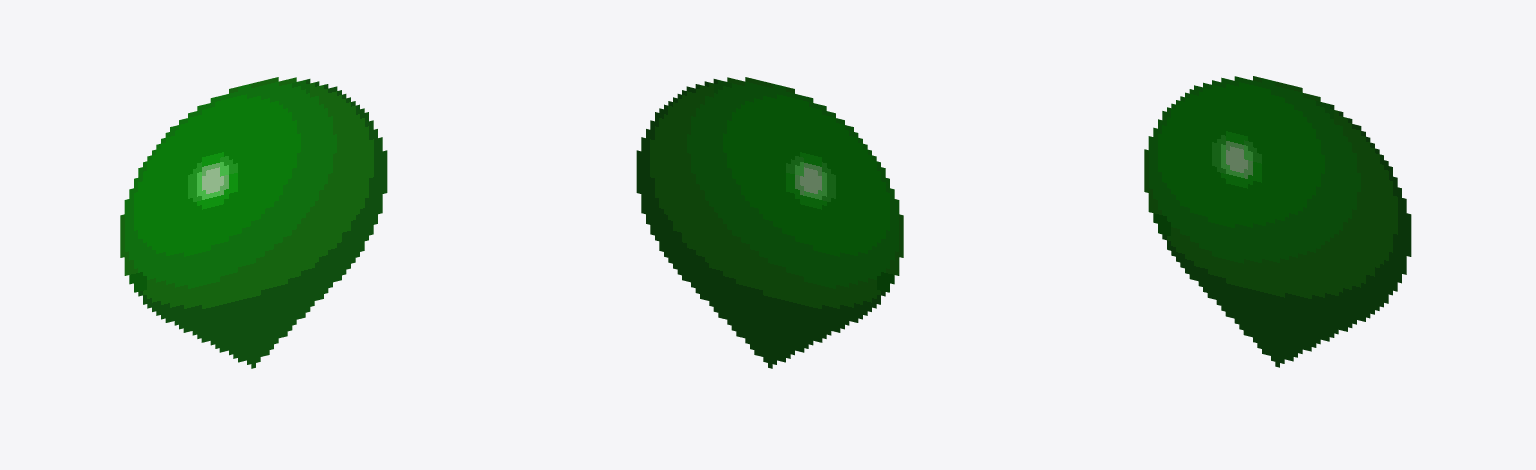
The model's file is mini_dokan_gc-balloon.glb.
3 views of the same model, side by side, from view 1: azimuth 30°, elevation 25°; view 2: azimuth 150°, elevation 25°; view 3: azimuth 330°, elevation 25° (orthographic).
Parts seen in each view (by area): view 1: balloon; view 2: balloon; view 3: balloon.
Boxes of the visible parts, x1,y1,x2,y2 form: balloon: [120, 77, 387, 368]; balloon: [636, 77, 903, 368]; balloon: [1144, 76, 1411, 367].
Size of the model in its own units: 1.04 by 0.7886 by 0.
1 material, 1 textured.
